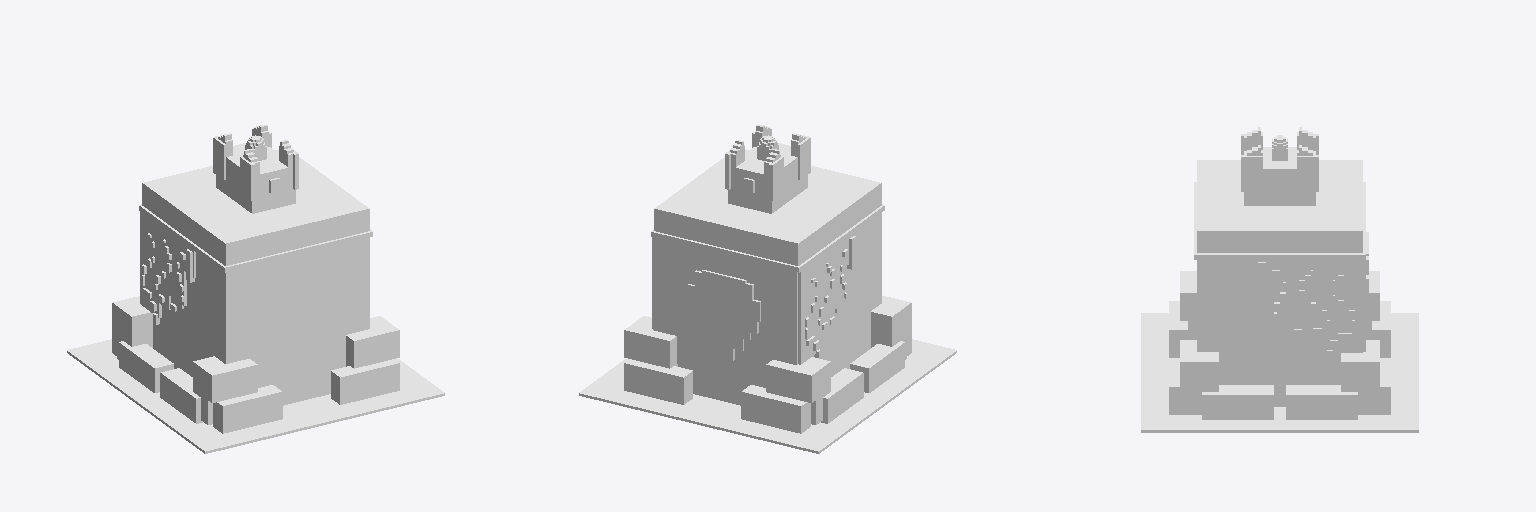
The model's file is QUIN.obj.
3 views of the same model, side by side, from view 1: azimuth 30°, elevation 25°; view 2: azimuth 150°, elevation 25°; view 3: azimuth 270°, elevation 25° (orthographic).
Visible parts, largest first — view 1: object 1; view 2: object 1; view 3: object 1.
Part boxes in pixels (left/top/right/bottom): object 1: left=67, top=124, right=444, bottom=453; object 1: left=579, top=124, right=956, bottom=453; object 1: left=1141, top=127, right=1418, bottom=432.
Bounding box in the file's own units: 10 × 9.4 × 10.